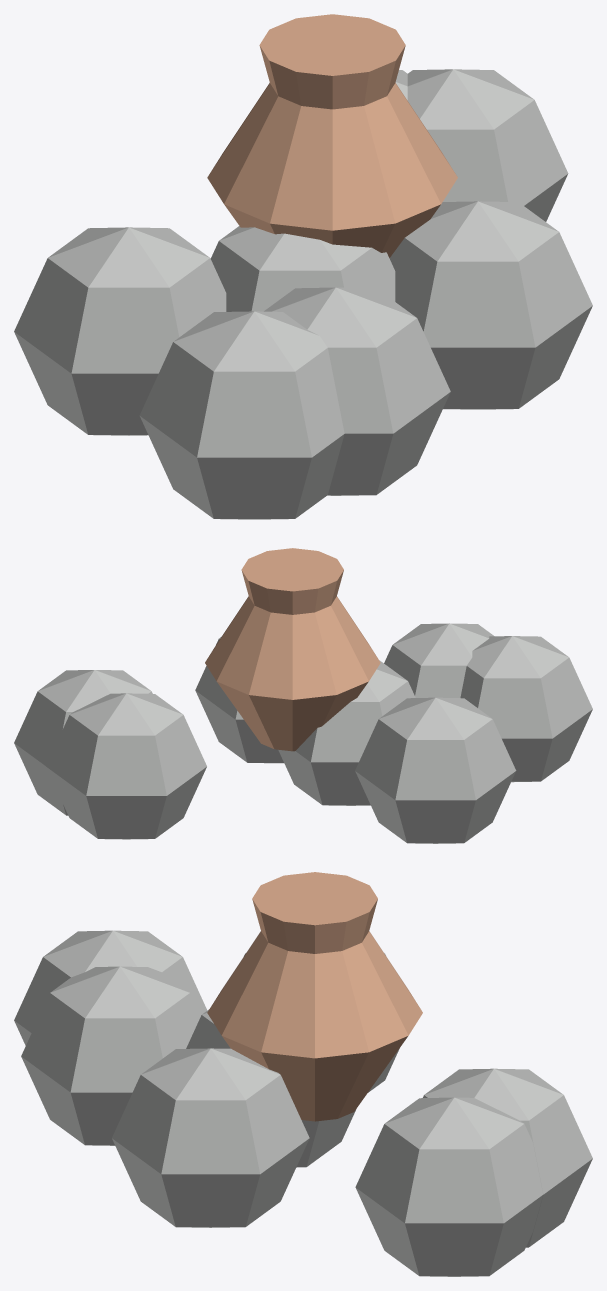
File: urn_grave.glb
The picture shows the model from 3 angles, top to bottom: view 1: azimuth 30°, elevation 25°; view 2: azimuth 150°, elevation 25°; view 3: azimuth 270°, elevation 25°; orthographic projection. The views are drawn at different scales.
Parts seen in each view (by area): view 1: urn_grave, urn_grave_urn; view 2: urn_grave, urn_grave_urn; view 3: urn_grave, urn_grave_urn.
Boxes of the visible parts, bbox=[...] form: urn_grave: bbox=[14, 69, 592, 519]; urn_grave_urn: bbox=[207, 14, 457, 257]; urn_grave: bbox=[14, 623, 592, 843]; urn_grave_urn: bbox=[205, 548, 380, 751]; urn_grave: bbox=[14, 930, 592, 1276]; urn_grave_urn: bbox=[207, 872, 422, 1121].
Size of the model in its own units: 1.28 by 0.72 by 1.29.
